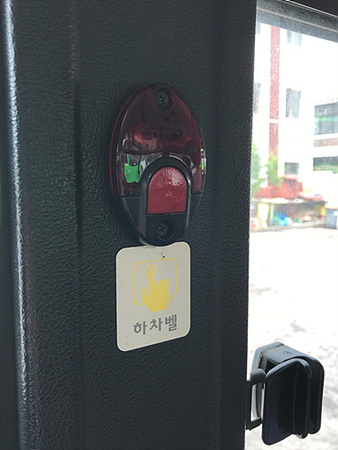bell: (105, 83, 209, 247)
